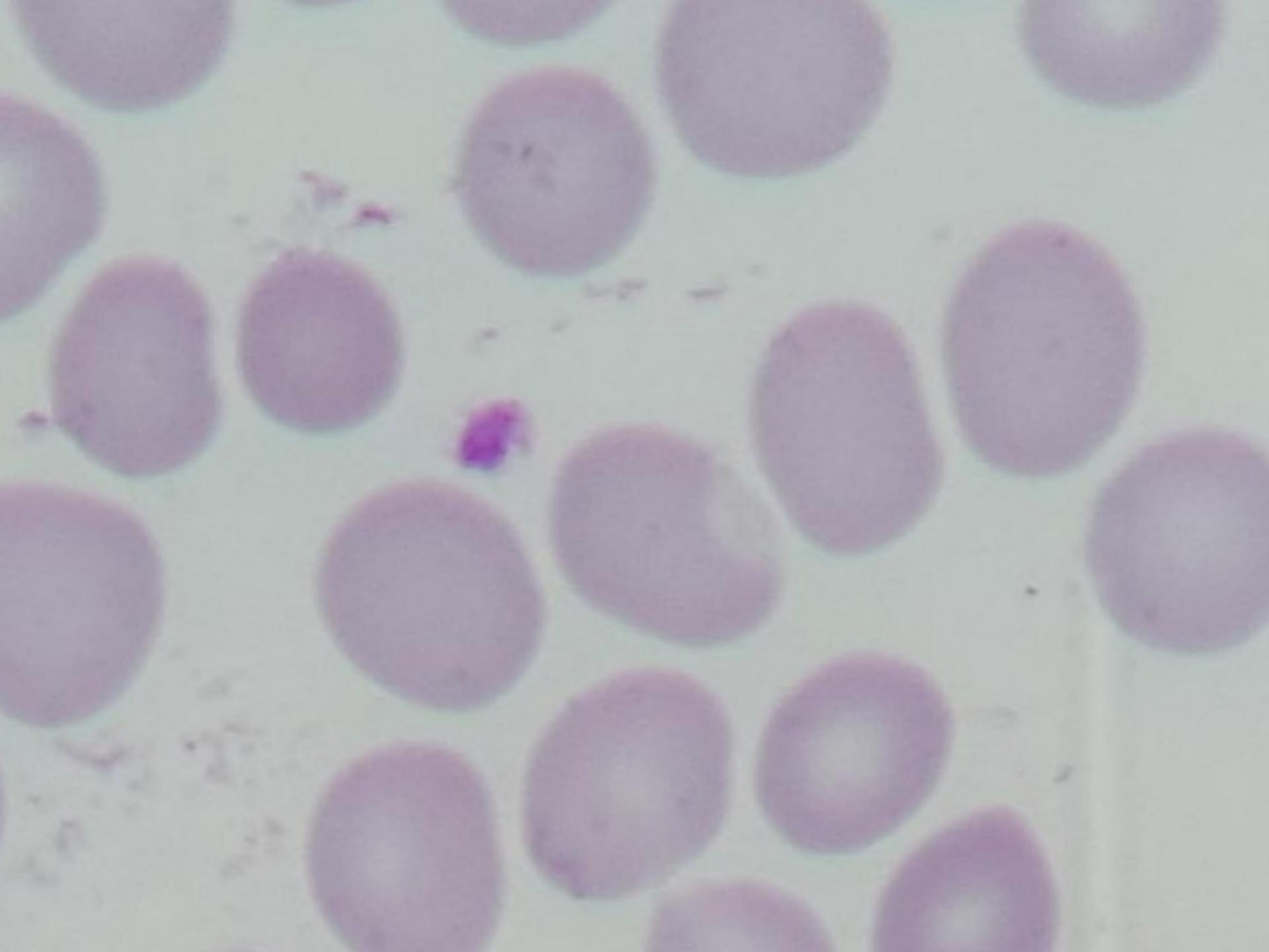Uninfected: (550, 425, 784, 645), (319, 483, 536, 710), (945, 222, 1136, 477), (752, 299, 942, 554), (1084, 425, 1269, 658), (526, 675, 721, 887), (659, 4, 886, 183), (309, 744, 506, 946), (757, 653, 954, 851), (461, 68, 651, 270), (0, 484, 159, 724), (48, 251, 216, 475), (236, 250, 399, 434), (871, 806, 1061, 952), (12, 0, 226, 117), (1015, 0, 1225, 110)
